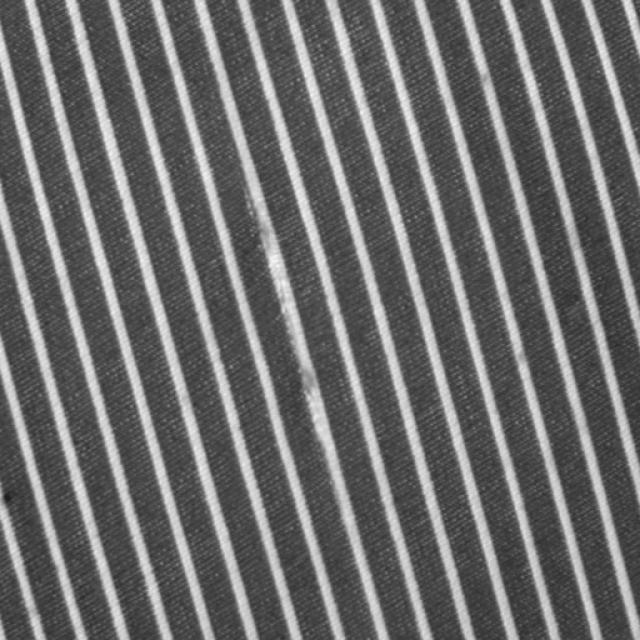Thread-Defect: (241, 172, 334, 459)
